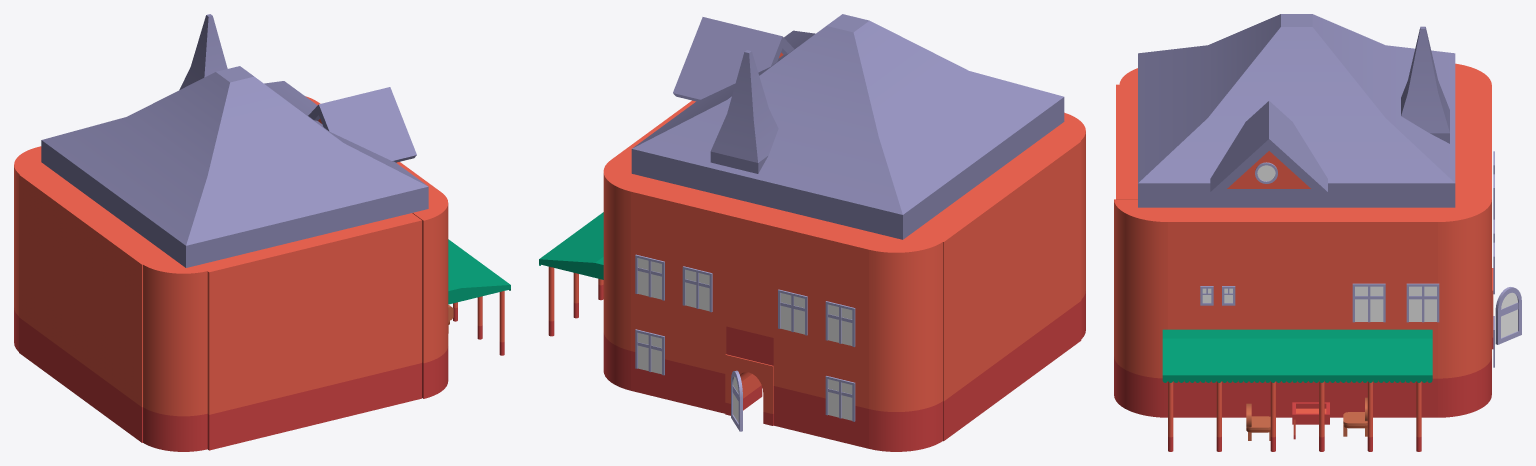
The model's file is giant-building.glb.
3 views of the same model, side by side, from view 1: azimuth 30°, elevation 25°; view 2: azimuth 150°, elevation 25°; view 3: azimuth 270°, elevation 25° (orthographic). The views are drawn at different scales.
Parts seen in each view (by area): view 1: mergedBlocks(Clone); view 2: mergedBlocks(Clone); view 3: mergedBlocks(Clone).
Boxes of the visible parts, left/top/right/bottom form: mergedBlocks(Clone): left=14, top=14, right=510, bottom=451; mergedBlocks(Clone): left=539, top=14, right=1085, bottom=451; mergedBlocks(Clone): left=1114, top=14, right=1521, bottom=451.
Size of the model in its own units: 8.59 by 6.7 by 7.56.
